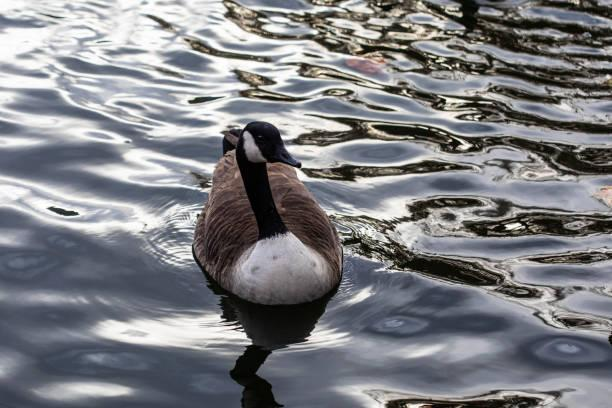Canadian-Goose: (188, 117, 349, 299)
